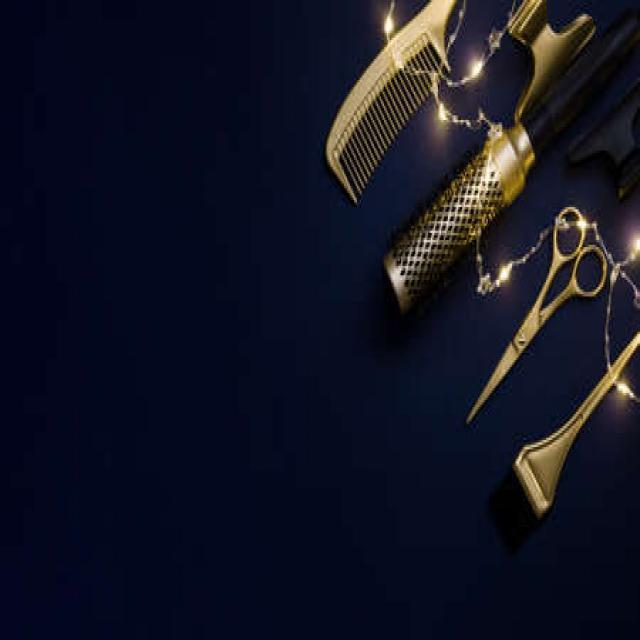scissors: (432, 187, 627, 477)
